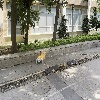fire: (38, 49, 47, 60)
